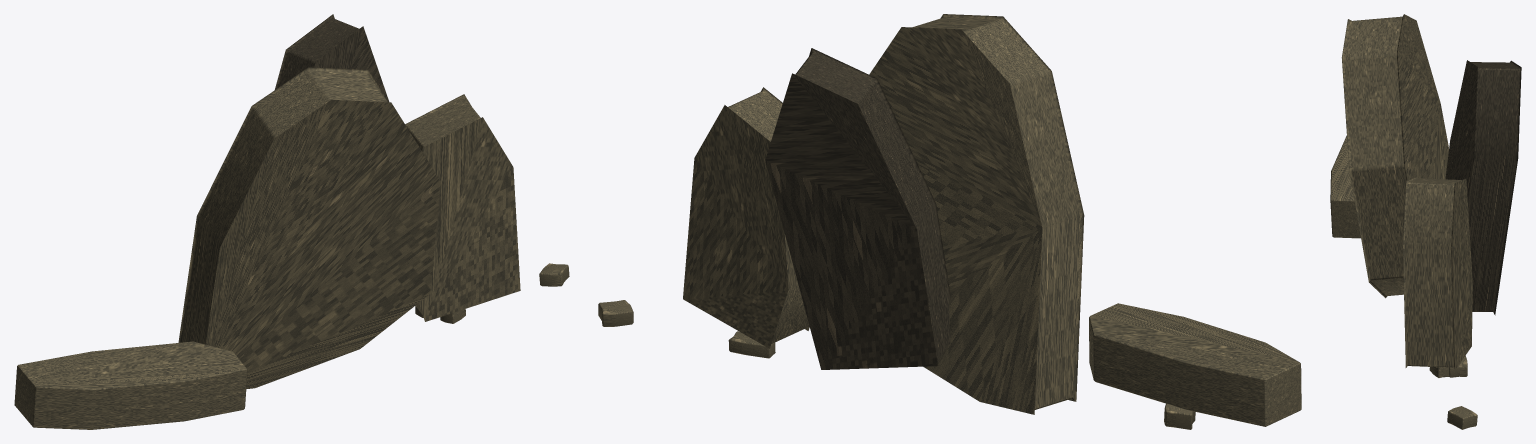
Rendered from SM_GIA_BloodAxeCairnSlabCluster_A01_FinalTrial_LOD3.fbx.
3 views of the same model, side by side, from view 1: azimuth 30°, elevation 25°; view 2: azimuth 150°, elevation 25°; view 3: azimuth 270°, elevation 25° (orthographic). The views are drawn at different scales.
Parts seen in each view (by area): view 1: A1_FinalA01_CentralLeaningPaintedSlab.003, A1_FinalA01_LeftFrontBrokenStack.003, A1_FinalA01_RightUprightShard.003, A1_FinalA01_RearTallShard.003, A1_Turnaround_Pebble_01; view 2: A1_FinalA01_CentralLeaningPaintedSlab.003, A1_FinalA01_RearTallShard.003, A1_FinalA01_RightUprightShard.003, A1_FinalA01_LeftFrontBrokenStack.003, A1_Turnaround_Pebble_01, A1_Turnaround_Pebble_02.002; view 3: A1_FinalA01_CentralLeaningPaintedSlab.003, A1_FinalA01_RightUprightShard.003, A1_FinalA01_RearTallShard.003, A1_FinalA01_LeftFrontBrokenStack.003, A1_Turnaround_Pebble_01, A1_Turnaround_Pebble_02.002.
Part boxes in pixels (left/top/right/bottom): A1_FinalA01_CentralLeaningPaintedSlab.003: left=178, top=67, right=440, bottom=388; A1_FinalA01_LeftFrontBrokenStack.003: left=14, top=341, right=247, bottom=429; A1_FinalA01_RightUprightShard.003: left=405, top=94, right=520, bottom=321; A1_FinalA01_RearTallShard.003: left=275, top=14, right=389, bottom=101; A1_Turnaround_Pebble_01: left=539, top=263, right=569, bottom=286; A1_FinalA01_CentralLeaningPaintedSlab.003: left=869, top=14, right=1084, bottom=414; A1_FinalA01_RearTallShard.003: left=765, top=48, right=950, bottom=369; A1_FinalA01_RightUprightShard.003: left=683, top=87, right=809, bottom=348; A1_FinalA01_LeftFrontBrokenStack.003: left=1089, top=303, right=1301, bottom=426; A1_Turnaround_Pebble_01: left=598, top=300, right=633, bottom=326; A1_Turnaround_Pebble_02.002: left=728, top=331, right=775, bottom=358; A1_FinalA01_CentralLeaningPaintedSlab.003: left=1341, top=14, right=1448, bottom=298; A1_FinalA01_RightUprightShard.003: left=1403, top=176, right=1472, bottom=369; A1_FinalA01_RearTallShard.003: left=1445, top=60, right=1521, bottom=315; A1_FinalA01_LeftFrontBrokenStack.003: left=1330, top=135, right=1360, bottom=238; A1_Turnaround_Pebble_01: left=1447, top=406, right=1477, bottom=429; A1_Turnaround_Pebble_02.002: left=1449, top=355, right=1467, bottom=377.
Size of the model in its own units: 10676 by 34941 by 17662.
